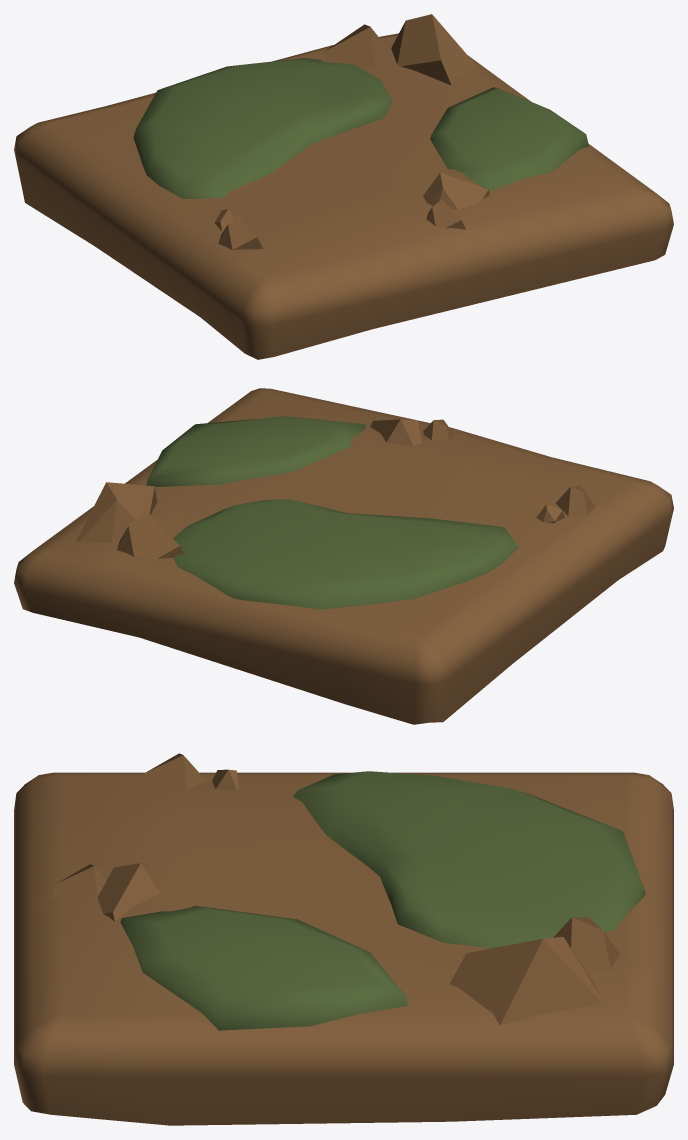
File: Tile_3.fbx
3 renders of one model, top to bottom at view 1: azimuth 30°, elevation 25°; view 2: azimuth 150°, elevation 25°; view 3: azimuth 270°, elevation 25°, orthographic. The views are drawn at different scales.
Parts seen in each view (by area): view 1: Tile_3; view 2: Tile_3; view 3: Tile_3.
Part boxes in pixels (x1,y1,x2,y2): Tile_3: [14, 14, 673, 359]; Tile_3: [14, 388, 673, 724]; Tile_3: [14, 753, 673, 1125].
Size of the model in its own units: 1 by 0.2751 by 1.
